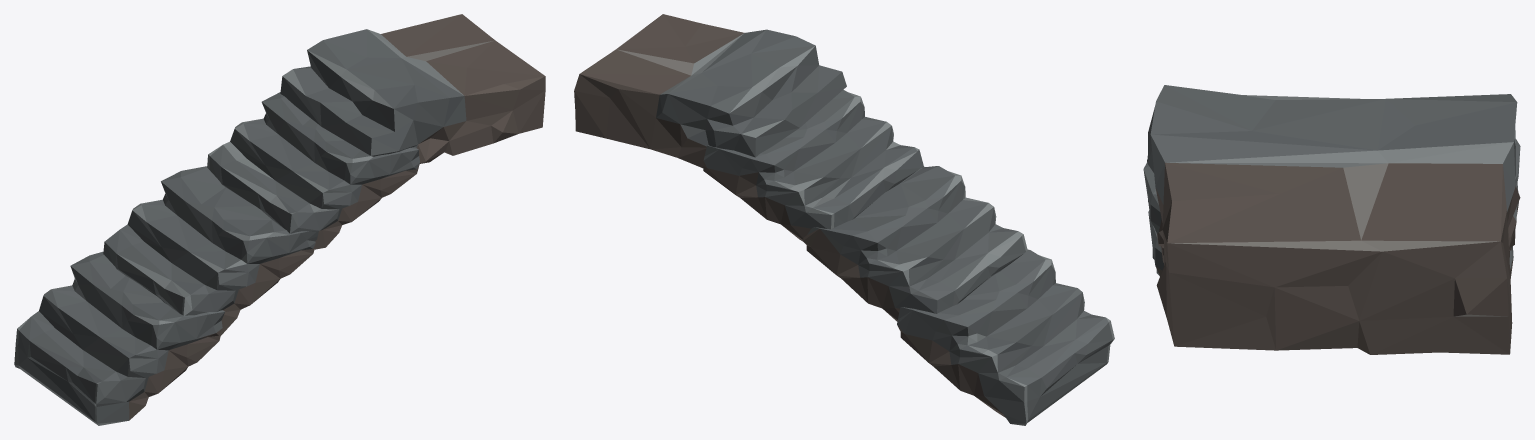
File: MCastle_Steps_05.FBX
3 renders of one model, left to right at view 1: azimuth 30°, elevation 25°; view 2: azimuth 150°, elevation 25°; view 3: azimuth 270°, elevation 25°, orthographic. The views are drawn at different scales.
Visible parts, largest first — view 1: MCastle_Steps_05_LOD0; view 2: MCastle_Steps_05_LOD0; view 3: MCastle_Steps_05_LOD0.
Part boxes in pixels (x1,y1,x2,y2): MCastle_Steps_05_LOD0: (14,14,545,425); MCastle_Steps_05_LOD0: (574,14,1114,425); MCastle_Steps_05_LOD0: (1143,85,1520,354).
Size of what is drawn, in the model's own units: 5.81 by 3.08 by 2.08.
